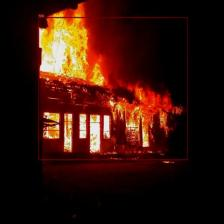fire: (38, 17, 188, 160)
